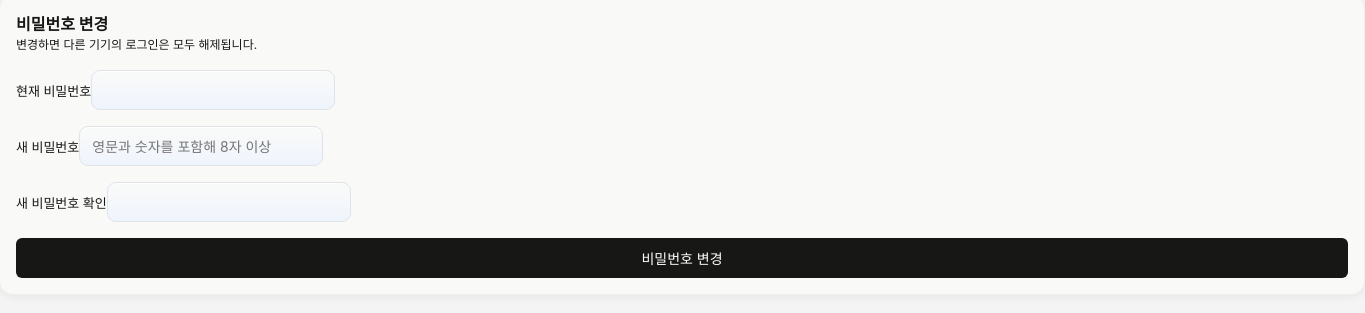
Scenario: PasswordCard › surfaces a wrong current password
Type "wrongpass1" into the password field labelled "현재 비밀번호".
click(213, 90); type("wrongpass1")  # box [91,70,335,110]
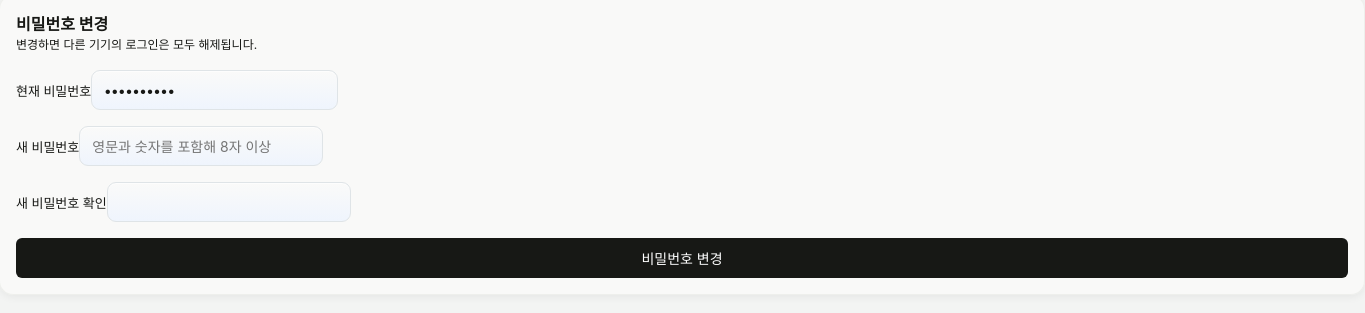
Type "newpass123" into the password field labelled "새 비밀번호".
click(201, 146); type("newpass123")  # box [79,126,323,166]
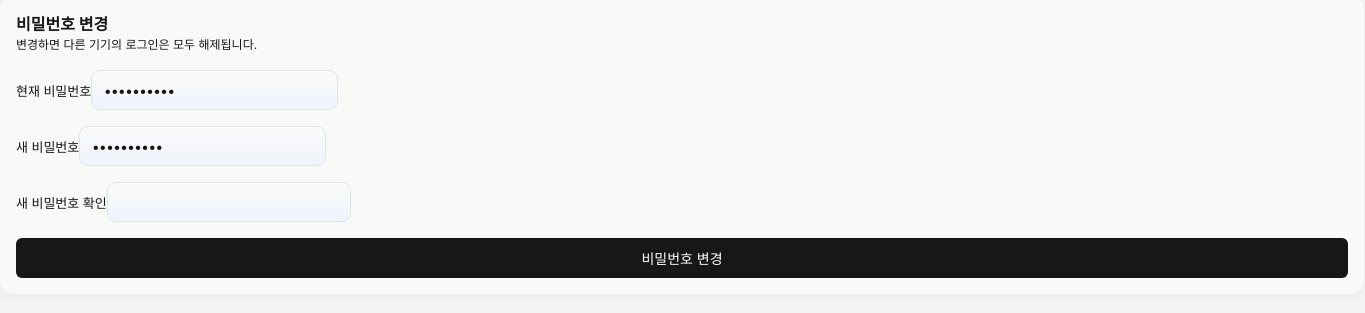
Type "newpass123" into the password field labelled "새 비밀번호 확인".
click(229, 202); type("newpass123")  # box [107,182,351,222]
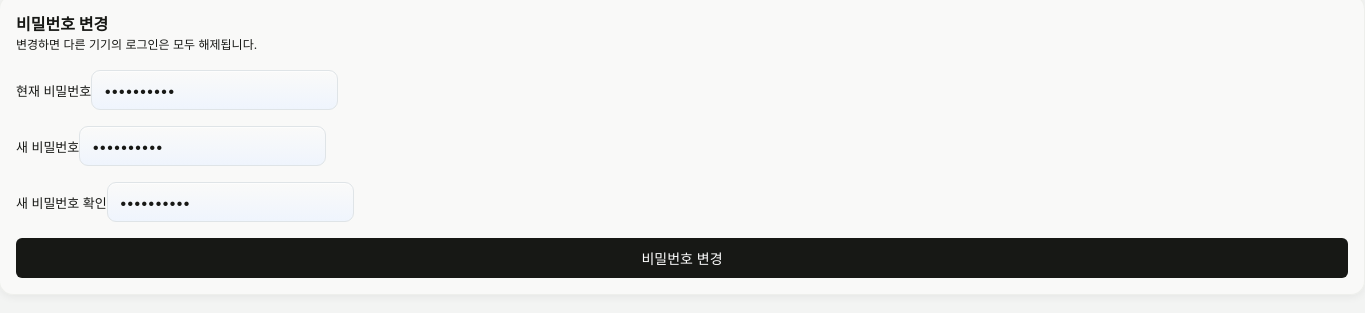
Click the button "비밀번호 변경".
click(682, 258)  # box [16,238,1348,278]
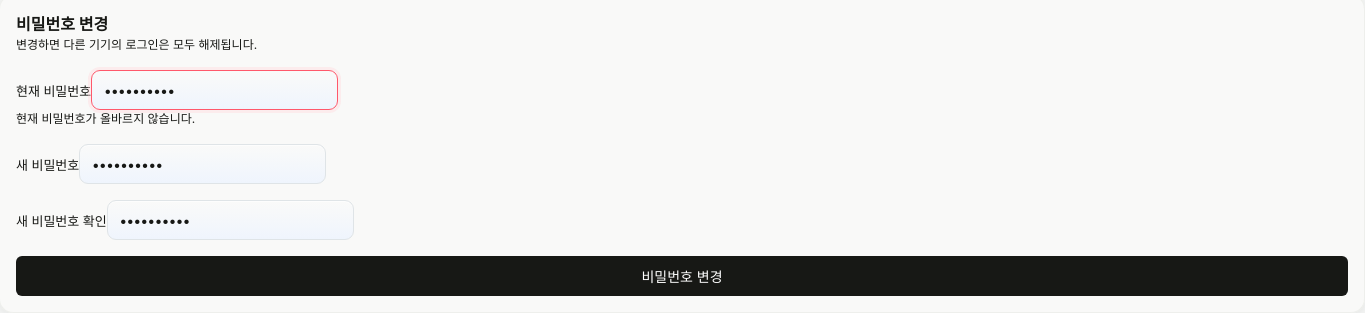
Expected: the text "현재 비밀번호가 올바르지 않습니다." is shown, [16,111,195,126]
